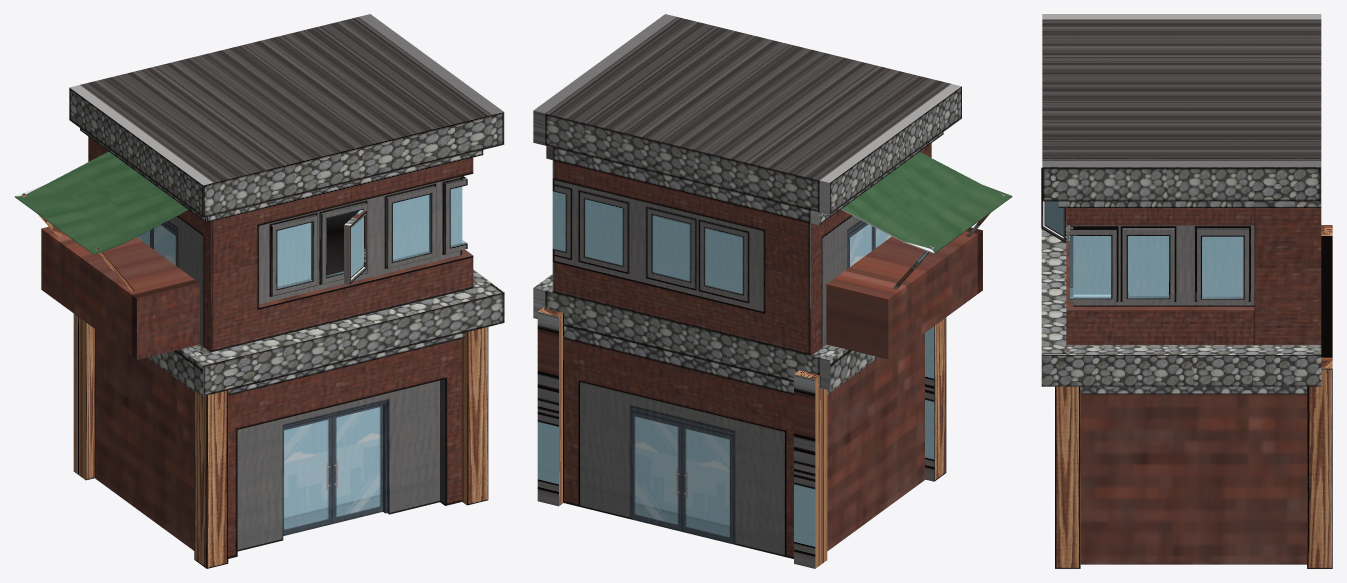
Rendered from House_2_B.fbx.
3 renders of one model, left to right at view 1: azimuth 30°, elevation 25°; view 2: azimuth 150°, elevation 25°; view 3: azimuth 270°, elevation 25°, orthographic. The views are drawn at different scales.
Visible parts, largest first — view 1: House-2; view 2: House-2; view 3: House-2.
Boxes of the visible parts, box(x1,y1,x2,y2) form: House-2: box(14, 14, 504, 568); House-2: box(533, 14, 1012, 568); House-2: box(1041, 14, 1332, 568).
Bounding box in the file's own units: 250 × 245 × 159.
